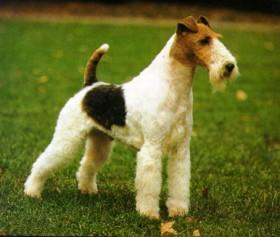wire-haired_fox_terrier: (20, 13, 240, 220)
